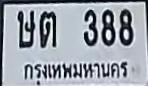3: (83, 10, 98, 46)
8: (119, 8, 134, 46), (101, 9, 116, 46)
A21: (39, 10, 57, 48)
A39: (17, 10, 36, 49)
BKK: (20, 56, 134, 86)
